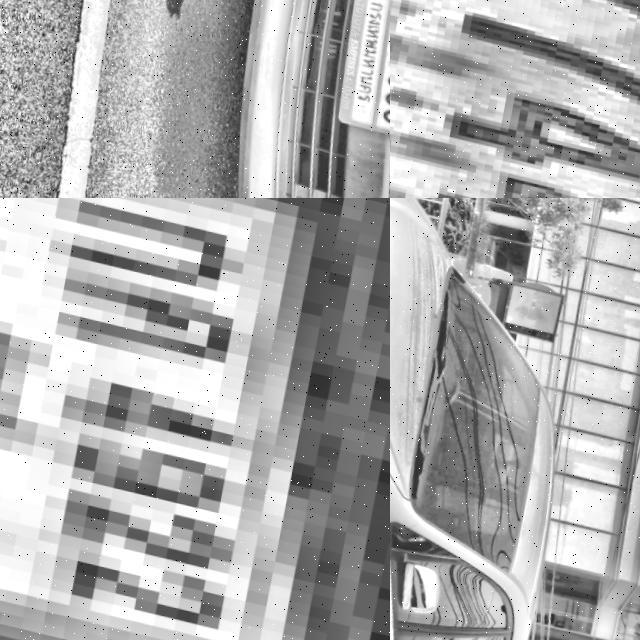license-plate: (0, 198, 390, 640), (390, 0, 640, 198), (338, 0, 390, 134)
